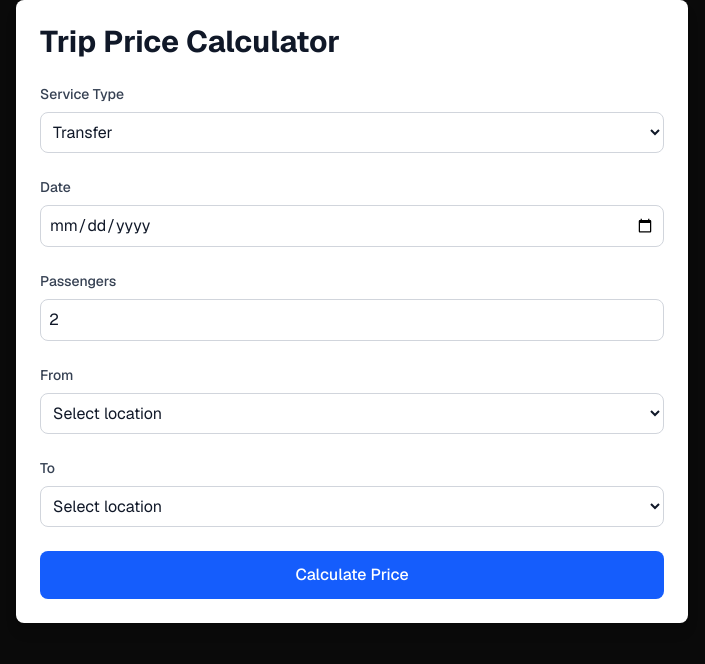
Calculator Component › Validation › should show error when passengers field is cleared
Select "Transfer" in the dropdown labelled "Service Type" at x=352, y=132, box [40, 112, 664, 153]
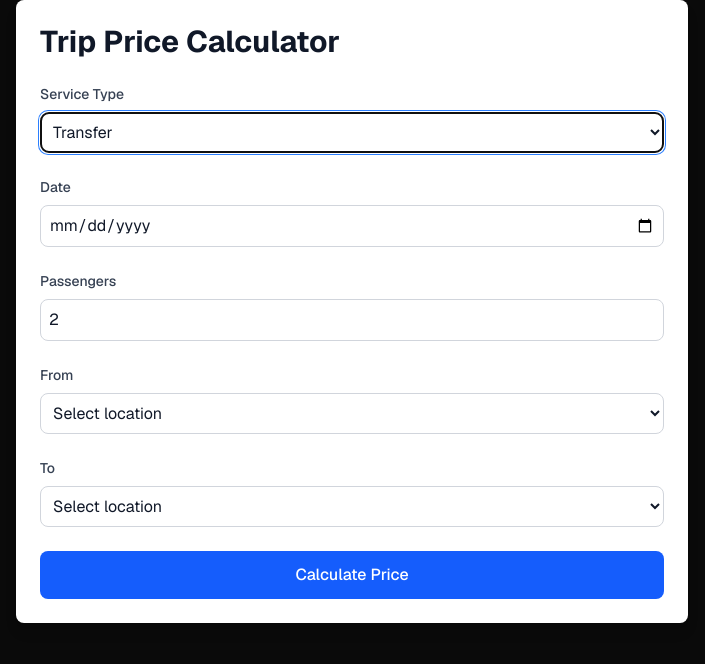
Type "2024-07-15" into the date field labelled "Date" at x=352, y=226, box [40, 205, 664, 247]
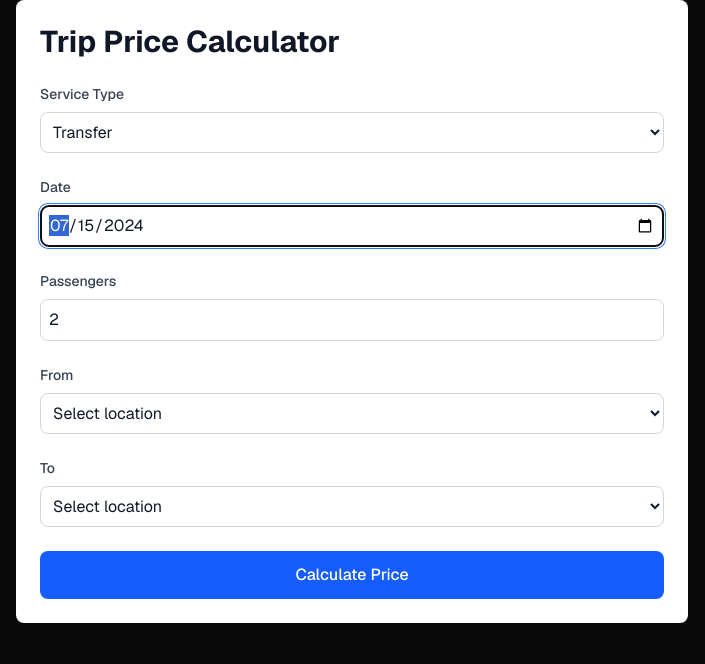
Select "Dubrovnik" in the dropdown labelled "From" at x=352, y=414, box [40, 393, 664, 434]
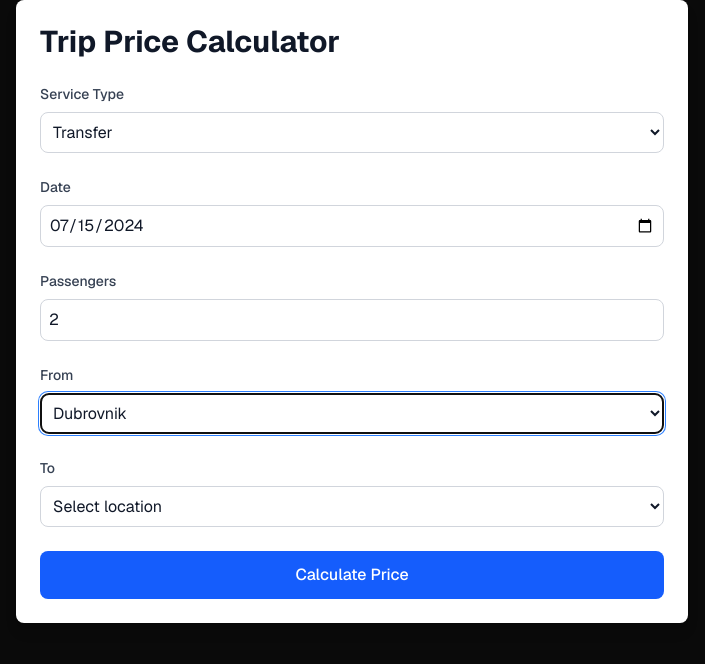
Select "Cavtat" in the dropdown labelled "To" at x=352, y=506, box [40, 486, 664, 527]
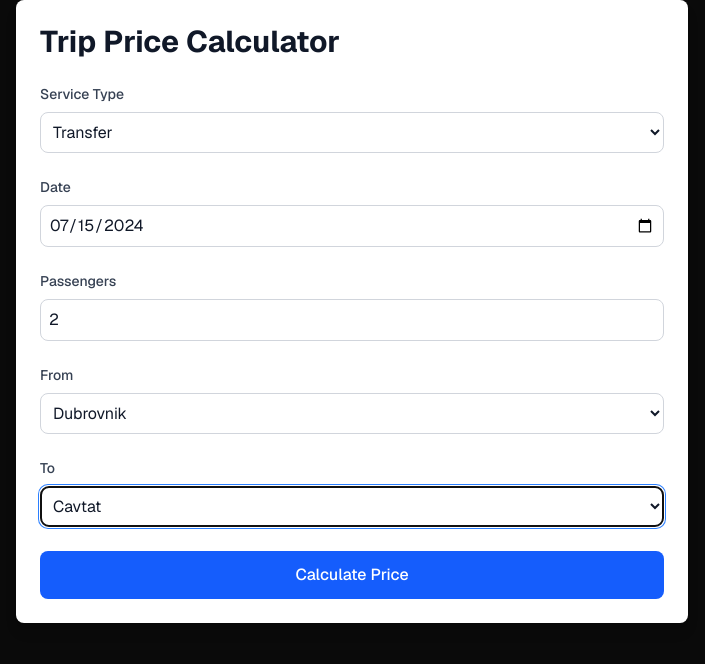
Note: Clear passengers field (becomes 0)
Clear the number field labelled "Passengers" at x=352, y=320, box [40, 299, 664, 341]
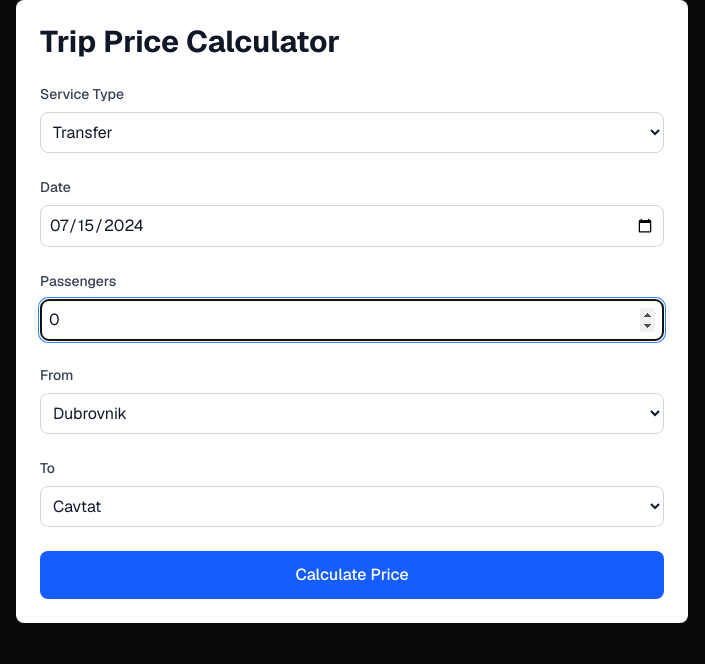
Click the button "Calculate Price" at x=352, y=575, box [40, 551, 664, 599]
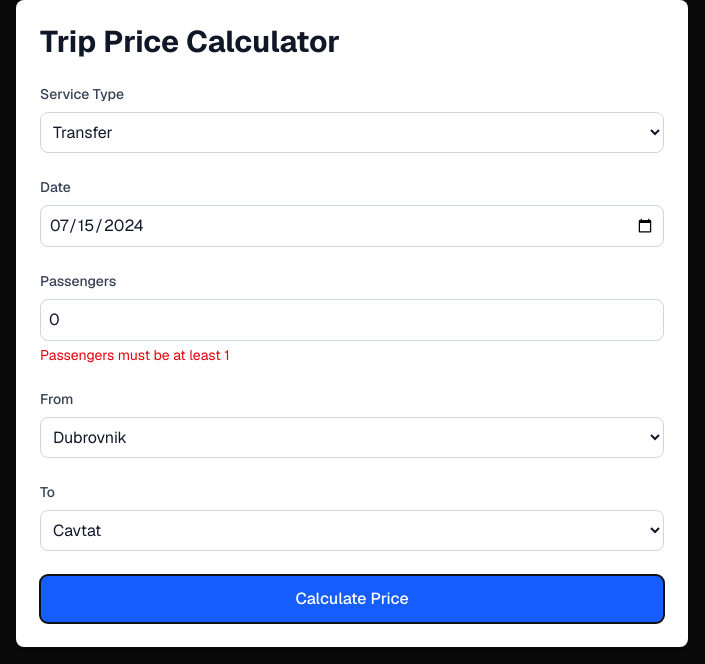
Now the text "Passengers must be at least 1" is shown, box [40, 346, 230, 364]
